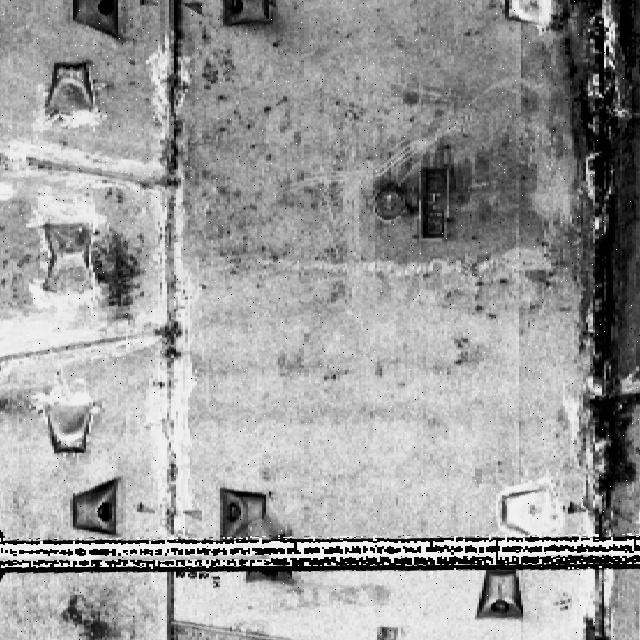leakage: (541, 1, 639, 543)
